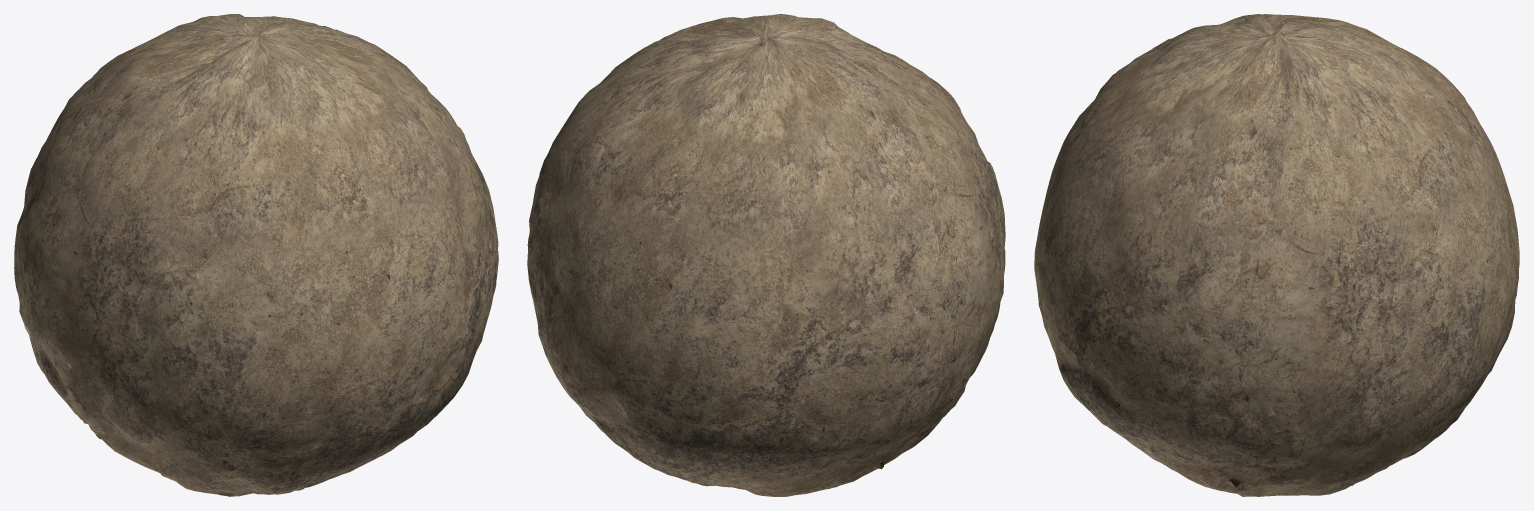
File: rock_08.glb
The picture shows the model from 3 angles, left to right: view 1: azimuth 30°, elevation 25°; view 2: azimuth 150°, elevation 25°; view 3: azimuth 270°, elevation 25°; orthographic projection.
Visible parts, largest first — view 1: sphere_gltf; view 2: sphere_gltf; view 3: sphere_gltf.
Boxes of the visible parts, x1,y1,x2,y2 form: sphere_gltf: (14, 14, 498, 496); sphere_gltf: (527, 14, 1005, 496); sphere_gltf: (1034, 14, 1519, 496).
Bounding box in the file's own units: 0.2785 × 0.2797 × 0.2777.
1 material, 1 textured.
